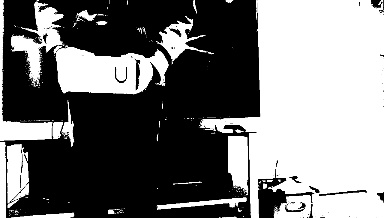U: (111, 62, 128, 82)
